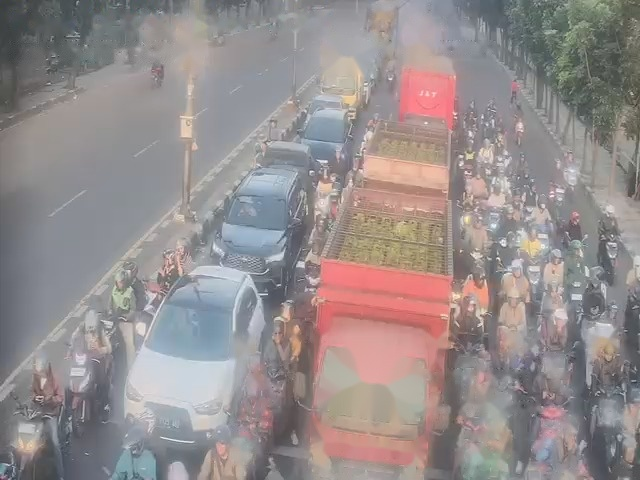Mobil: (221, 169, 306, 287)
Motor: (10, 400, 49, 466), (591, 382, 617, 464), (268, 363, 298, 424), (543, 352, 574, 398), (70, 351, 94, 394), (453, 294, 477, 337), (101, 310, 119, 356), (604, 231, 621, 274), (142, 274, 161, 306), (502, 322, 514, 362), (488, 157, 501, 191), (574, 274, 586, 306), (490, 205, 500, 236), (567, 168, 578, 192), (512, 122, 525, 141), (522, 263, 533, 285), (551, 184, 561, 207), (465, 149, 474, 174), (472, 251, 483, 268), (482, 144, 491, 164), (464, 211, 472, 231), (498, 237, 504, 251)
Truk: (323, 122, 451, 463)
